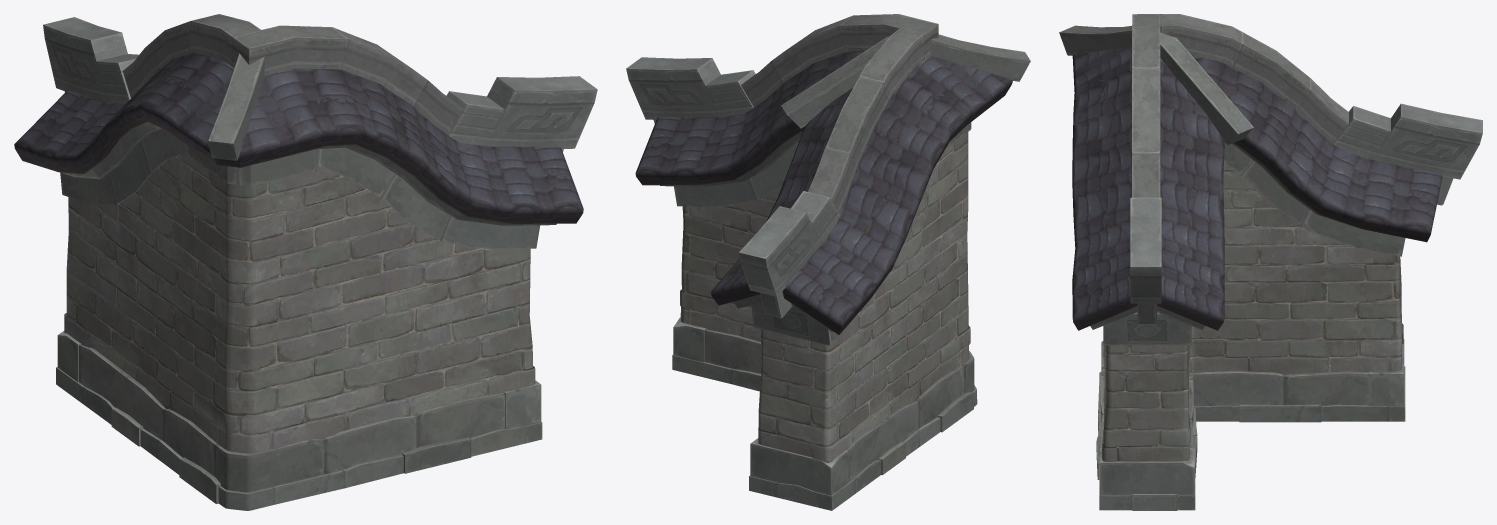
File: Homeworld_Exterior_Cyg_Build_YlbWeiqiangCorner_01_Lod0.fbx
The picture shows the model from 3 angles, left to right: view 1: azimuth 30°, elevation 25°; view 2: azimuth 150°, elevation 25°; view 3: azimuth 270°, elevation 25°; orthographic projection. The views are drawn at different scales.
Parts seen in each view (by area): view 1: Area_Cyg_Build_QYZ_Comp_Weiqiang_H_01_Lod0; view 2: Area_Cyg_Build_QYZ_Comp_Weiqiang_H_01_Lod0; view 3: Area_Cyg_Build_QYZ_Comp_Weiqiang_H_01_Lod0.
Boxes of the visible parts, box(x1,y1,x2,y2) form: Area_Cyg_Build_QYZ_Comp_Weiqiang_H_01_Lod0: box(14, 14, 597, 510); Area_Cyg_Build_QYZ_Comp_Weiqiang_H_01_Lod0: box(626, 14, 1030, 510); Area_Cyg_Build_QYZ_Comp_Weiqiang_H_01_Lod0: box(1059, 14, 1482, 510).
Bounding box in the file's own units: 4.41 × 4.43 × 4.47.
